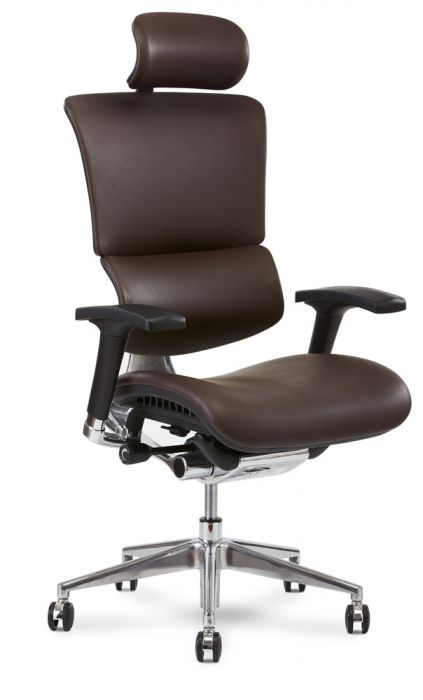chairs: (28, 8, 412, 667)
